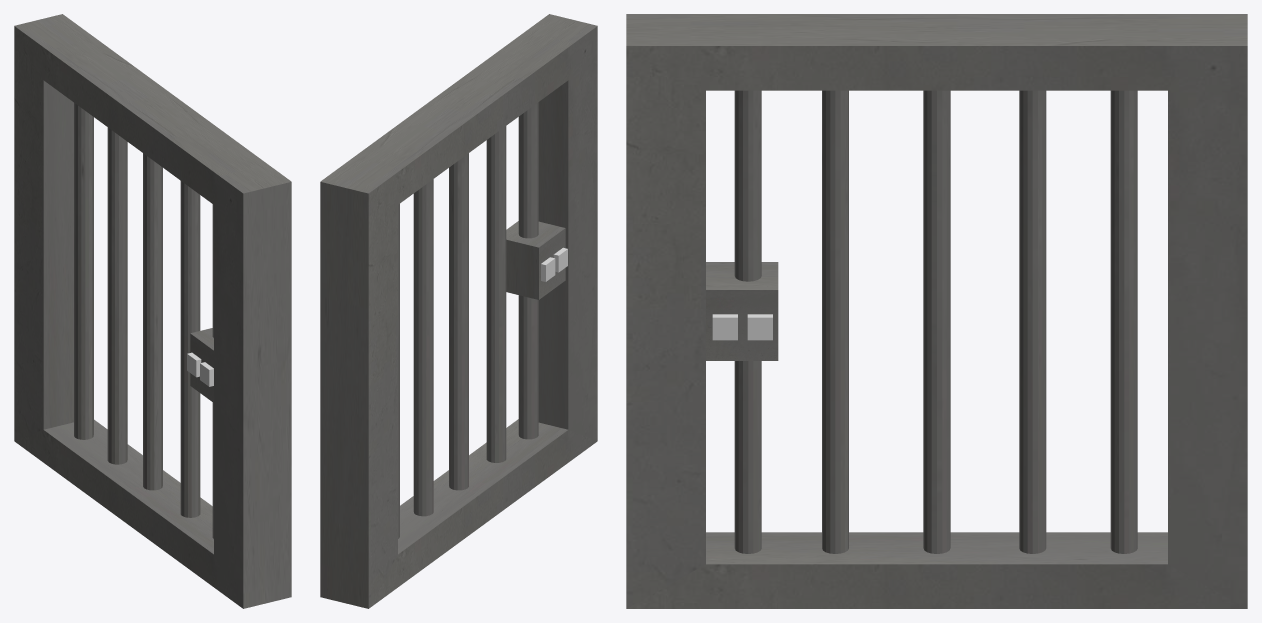
Rendered from gate.fbx.
3 views of the same model, side by side, from view 1: azimuth 30°, elevation 25°; view 2: azimuth 150°, elevation 25°; view 3: azimuth 270°, elevation 25° (orthographic). The views are drawn at different scales.
Parts seen in each view (by area): view 1: Cube, Cube.001; view 2: Cube, Cube.001; view 3: Cube, Cube.001.
Part boxes in pixels (x1,y1,x2,y2): Cube: (14,14,291,608); Cube.001: (187,352,213,386); Cube: (320,14,597,608); Cube.001: (541,247,567,281); Cube: (626,14,1247,608); Cube.001: (712,314,772,340).
Size of the model in its own units: 104 by 783 by 783.
